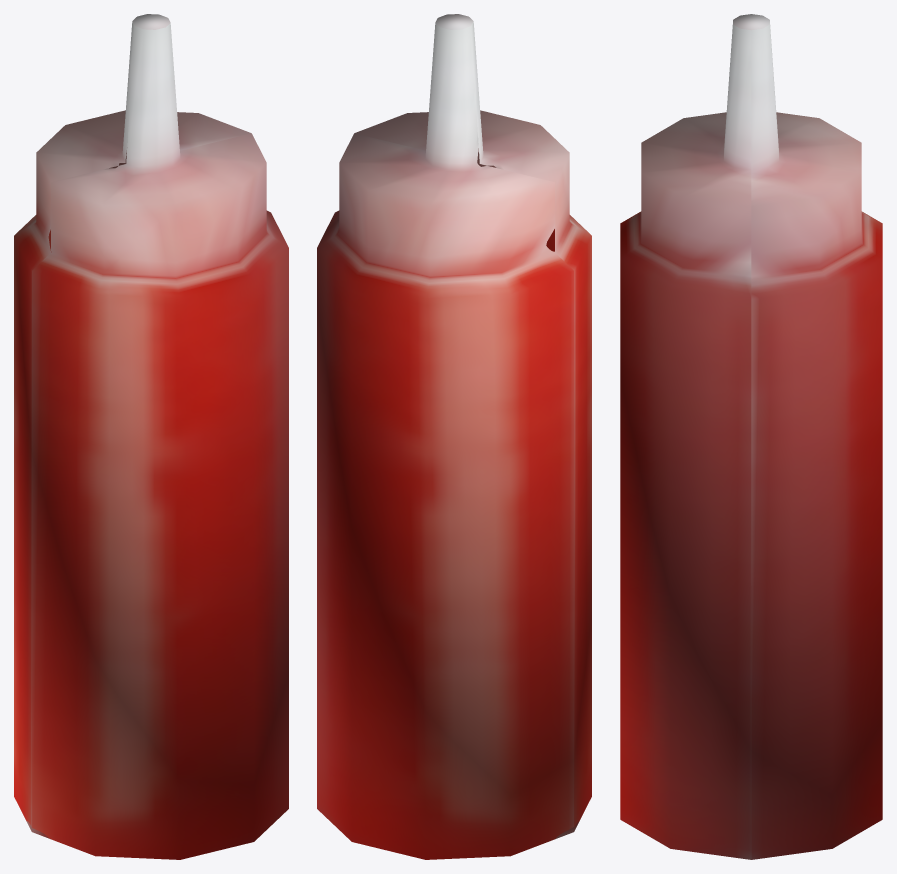
Rendered from ketchup_bottle.FBX.
3 renders of one model, left to right at view 1: azimuth 30°, elevation 25°; view 2: azimuth 150°, elevation 25°; view 3: azimuth 270°, elevation 25°, orthographic.
Visible parts, largest first — view 1: ketchup_bottle; view 2: ketchup_bottle; view 3: ketchup_bottle.
Boxes of the visible parts, x1=… form: ketchup_bottle: x1=14, y1=14, x2=288, y2=859; ketchup_bottle: x1=317, y1=14, x2=591, y2=859; ketchup_bottle: x1=620, y1=14, x2=882, y2=859.
Size of the model in its own units: 26.69 by 83.25 by 25.38.
